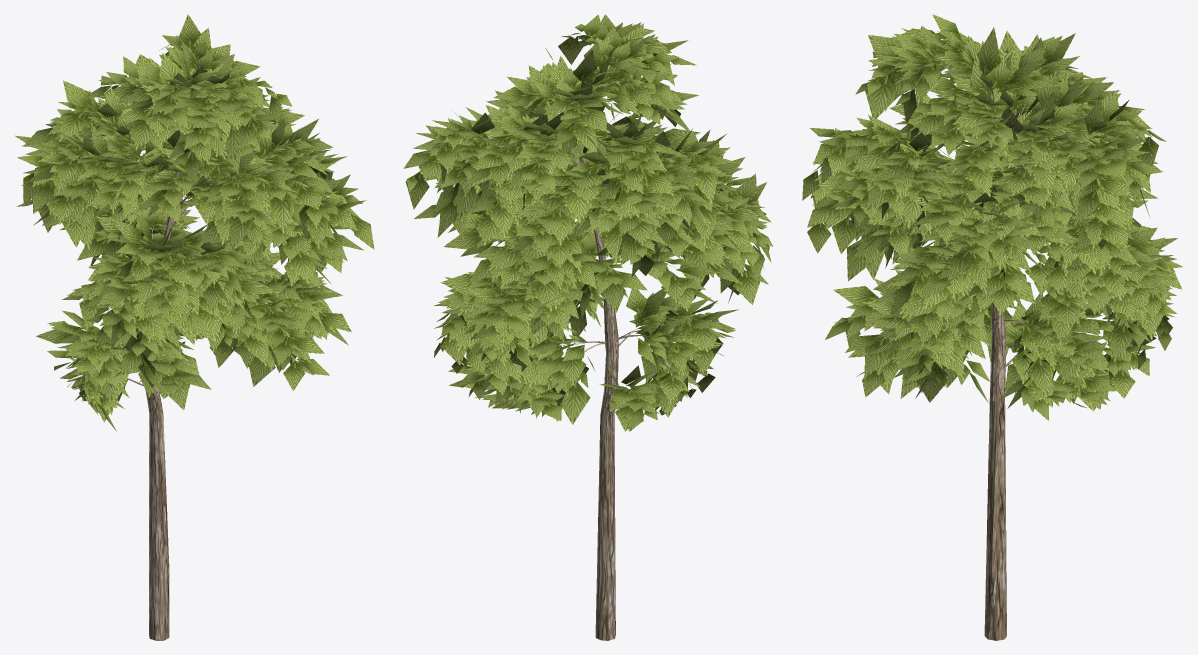
File: tree_10.glb
3 views of the same model, side by side, from view 1: azimuth 30°, elevation 25°; view 2: azimuth 150°, elevation 25°; view 3: azimuth 270°, elevation 25° (orthographic). The views are drawn at different scales.
Visible parts, largest first — view 1: MainBuilding; view 2: MainBuilding; view 3: MainBuilding.
Boxes of the visible parts, left/top/right/bottom form: MainBuilding: left=15, top=14, right=374, bottom=640; MainBuilding: left=403, top=14, right=773, bottom=640; MainBuilding: left=802, top=14, right=1182, bottom=640.
Bounding box in the file's own units: 0.5303 × 1 × 0.5613.
Materials: 1 (1 with a texture image).
